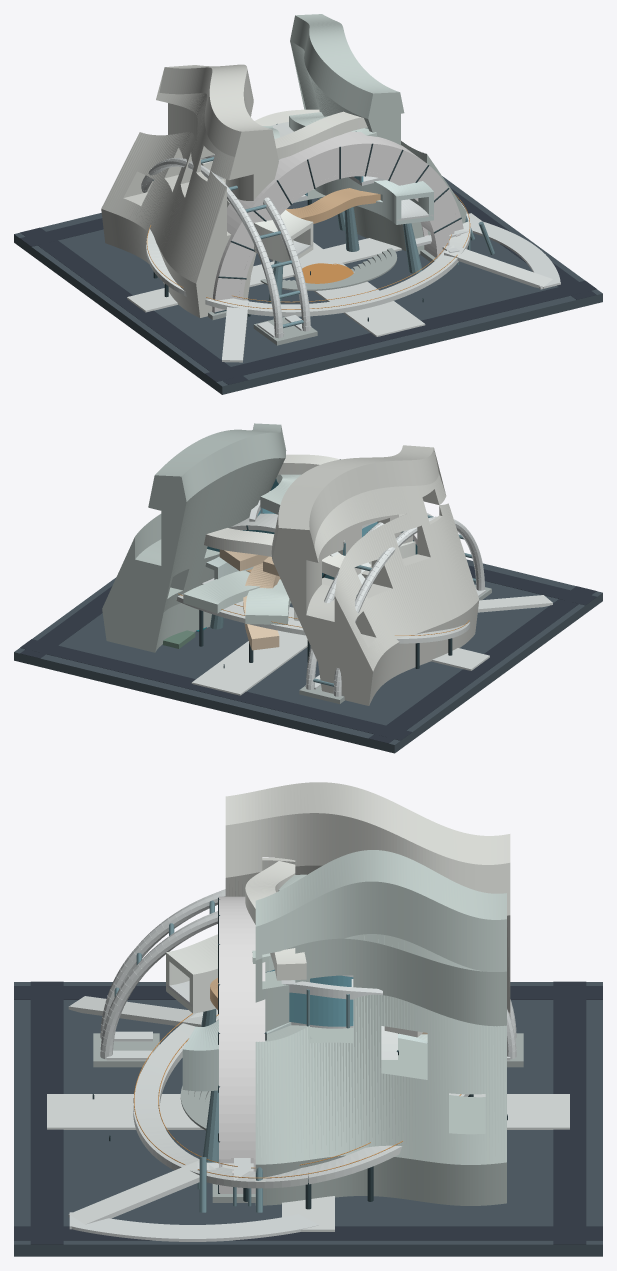
File: a11_megafissure_inhabited_cliffs.glb
3 renders of one model, top to bottom at view 1: azimuth 30°, elevation 25°; view 2: azimuth 150°, elevation 25°; view 3: azimuth 270°, elevation 25°, orthographic. The views are drawn at different scales.
Visible parts, largest first — view 1: District base, A11_WEST_FAULT_ESCARPMENT_REAL_VOID, A11_EAST_SKY_FOLD_REAL_VOID, SOUTH continuous glazed occupied band_A9_FLARED, Continuous elliptical public promenade, E-W road, SOUTH outer load shell_A7_PORTAL_A9_FLARED, N-S road, Public ground, continuous E-W axis, A10_EAST_INHABITED_TIDAL_SHELL, Public ground, continuous N-S axis, A11_HIGH_CREST_TRANSECT (+15 smaller); view 2: A11_WEST_FAULT_ESCARPMENT_REAL_VOID, District base, A11_EAST_SKY_FOLD_REAL_VOID, E-W road.001, N-S road, Public ground, continuous N-S axis, A11_LOW_FAULT_SKY_BOULEVARD, A11_EAST_OCCUPIED_STRATUM_0, A11_WEST_OCCUPIED_STRATUM_0, Continuous elliptical public promenade, E-W road, N-S road.001 (+7 smaller); view 3: A11_EAST_SKY_FOLD_REAL_VOID, District base, A11_WEST_FAULT_ESCARPMENT_REAL_VOID, SOUTH outer load shell_A7_PORTAL_A9_FLARED, E-W road, E-W road.001, Continuous elliptical public promenade, Public ground, continuous N-S axis, N-S road.001, A7_APPROACH_CURVED_DECK, A10_WEST_INHABITED_FAULT_SHELL, Street to common ramp.001 (+9 smaller).
Part boxes in pixels (<box>): District base: <box>14,176,602,394</box>; A11_WEST_FAULT_ESCARPMENT_REAL_VOID: <box>101,64,278,317</box>; A11_EAST_SKY_FOLD_REAL_VOID: <box>290,14,466,254</box>; SOUTH continuous glazed occupied band_A9_FLARED: <box>218,148,459,311</box>; Continuous elliptical public promenade: <box>146,202,470,316</box>; E-W road: <box>205,280,596,381</box>; SOUTH outer load shell_A7_PORTAL_A9_FLARED: <box>212,131,463,312</box>; N-S road: <box>20,227,247,384</box>; Public ground, continuous E-W axis: <box>127,213,481,312</box>; A10_EAST_INHABITED_TIDAL_SHELL: <box>314,177,433,224</box>; Public ground, continuous N-S axis: <box>269,242,425,336</box>; A11_HIGH_CREST_TRANSECT: <box>274,111,367,159</box>; A11_WEST_FAULT_ESCARPMENT_REAL_VOID: <box>271,445,479,705</box>; District base: <box>14,559,602,753</box>; A11_EAST_SKY_FOLD_REAL_VOID: <box>102,423,286,652</box>; E-W road.001: <box>20,639,411,740</box>; N-S road: <box>368,586,596,743</box>; Public ground, continuous N-S axis: <box>191,630,307,695</box>; A11_LOW_FAULT_SKY_BOULEVARD: <box>204,528,361,577</box>; A11_EAST_OCCUPIED_STRATUM_0: <box>183,570,260,613</box>; A11_WEST_OCCUPIED_STRATUM_0: <box>245,579,290,624</box>; Continuous elliptical public promenade: <box>176,594,470,643</box>; E-W road: <box>468,565,596,605</box>; N-S road.001: <box>20,586,112,658</box>; A11_EAST_SKY_FOLD_REAL_VOID: <box>255,850,506,1205</box>; District base: <box>14,982,602,1256</box>; A11_WEST_FAULT_ESCARPMENT_REAL_VOID: <box>225,782,510,1016</box>; SOUTH outer load shell_A7_PORTAL_A9_FLARED: <box>219,896,265,1193</box>; E-W road: <box>30,981,63,1244</box>; E-W road.001: <box>553,981,586,1244</box>; Continuous elliptical public promenade: <box>133,1009,469,1188</box>; Public ground, continuous N-S axis: <box>47,1094,569,1129</box>; N-S road.001: <box>14,1226,602,1240</box>; A7_APPROACH_CURVED_DECK: <box>69,1212,318,1241</box>; A10_WEST_INHABITED_FAULT_SHELL: <box>166,934,217,1013</box>; Street to common ramp.001: <box>68,1160,216,1224</box>.
Size of the model in its own units: 188 by 98.06 by 178.
